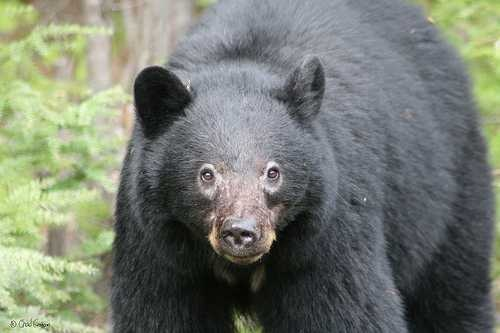bear: (175, 143, 303, 271), (98, 46, 226, 174), (233, 42, 361, 170)
